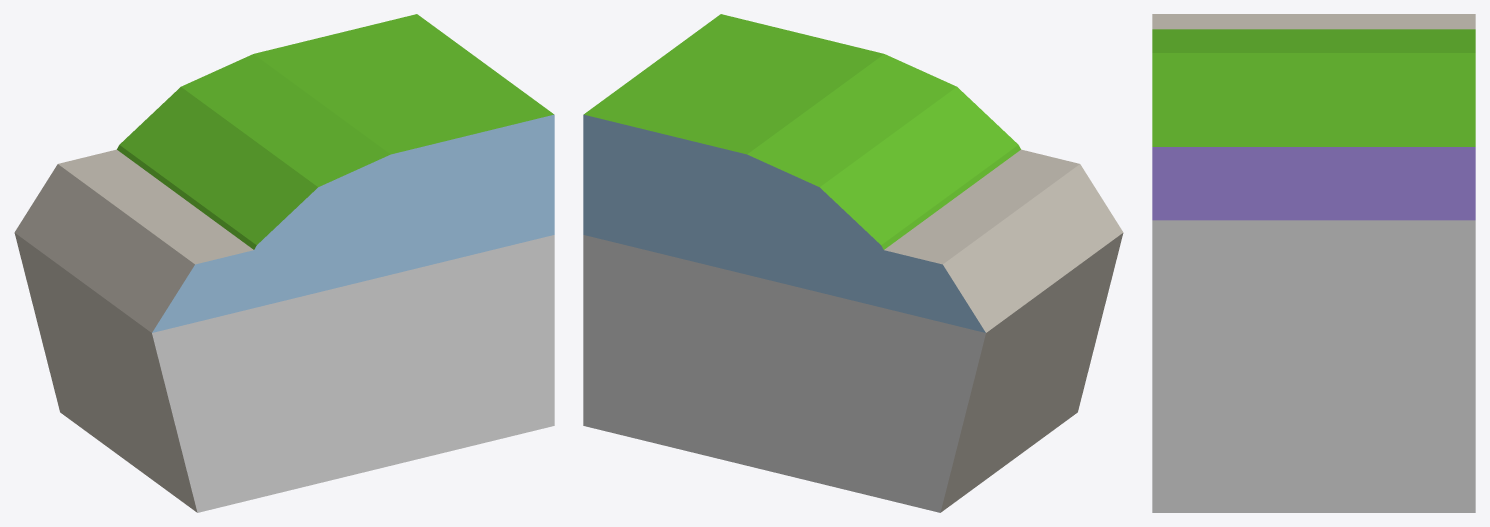
Rendered from Waterfall_Center_Top_Terrain_1x3.glb.
3 renders of one model, left to right at view 1: azimuth 30°, elevation 25°; view 2: azimuth 150°, elevation 25°; view 3: azimuth 270°, elevation 25°, orthographic. The views are drawn at different scales.
Visible parts, largest first — view 1: Waterfall_Center_Top_Terrain_1x3; view 2: Waterfall_Center_Top_Terrain_1x3; view 3: Waterfall_Center_Top_Terrain_1x3.
Boxes of the visible parts, x1,y1,x2,y2 form: Waterfall_Center_Top_Terrain_1x3: (14,14,554,512); Waterfall_Center_Top_Terrain_1x3: (583,14,1123,512); Waterfall_Center_Top_Terrain_1x3: (1152,14,1475,512).
Bounding box in the file's own units: 169 × 125 × 100.
